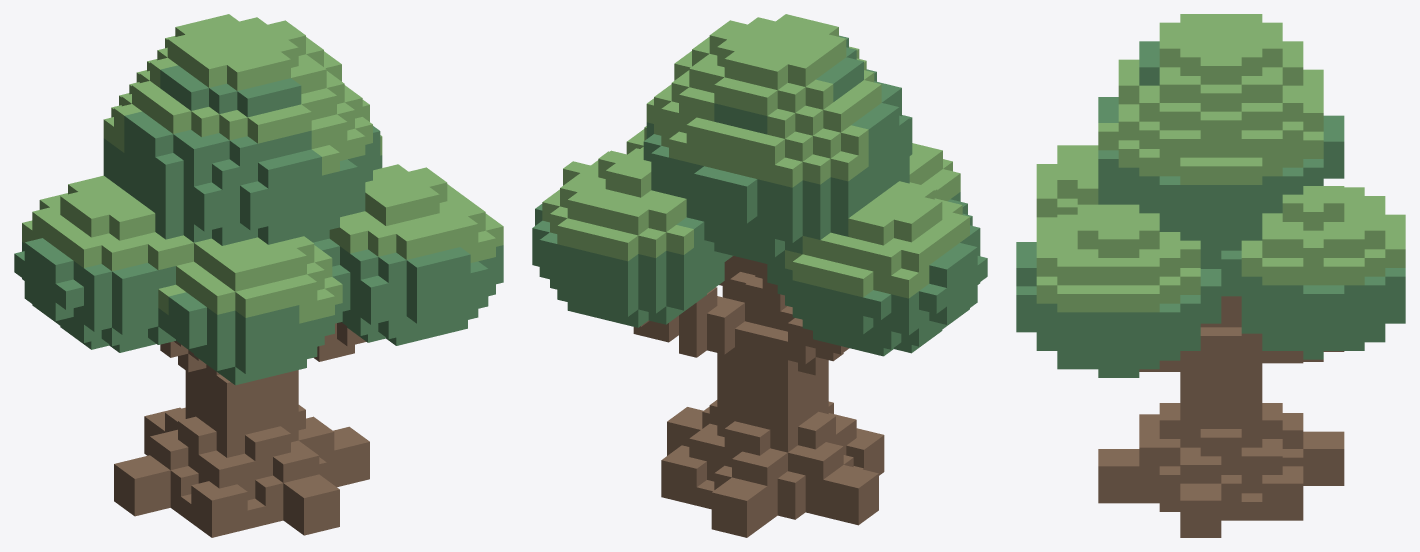
3 renders of one model, left to right at view 1: azimuth 30°, elevation 25°; view 2: azimuth 150°, elevation 25°; view 3: azimuth 270°, elevation 25°, orthographic.
Visible parts, largest first — view 1: tree_oak_var_2_broad_oak_D, tree_oak_var_2_broad_oak_L, tree_oak_var_2_broad_oak_W; view 2: tree_oak_var_2_broad_oak_L, tree_oak_var_2_broad_oak_D, tree_oak_var_2_broad_oak_W; view 3: tree_oak_var_2_broad_oak_L, tree_oak_var_2_broad_oak_D, tree_oak_var_2_broad_oak_W.
Part boxes in pixels (x1,y1,x2,y2): tree_oak_var_2_broad_oak_D: (14,65,503,385); tree_oak_var_2_broad_oak_L: (22,14,503,323); tree_oak_var_2_broad_oak_W: (114,322,369,537); tree_oak_var_2_broad_oak_L: (542,14,969,298); tree_oak_var_2_broad_oak_D: (532,35,987,356); tree_oak_var_2_broad_oak_W: (633,256,884,537); tree_oak_var_2_broad_oak_L: (1036,14,1405,312); tree_oak_var_2_broad_oak_D: (1016,41,1405,377); tree_oak_var_2_broad_oak_W: (1098,296,1344,537).
Bounding box in the file's own units: 3.15 × 3.6 × 2.85.
